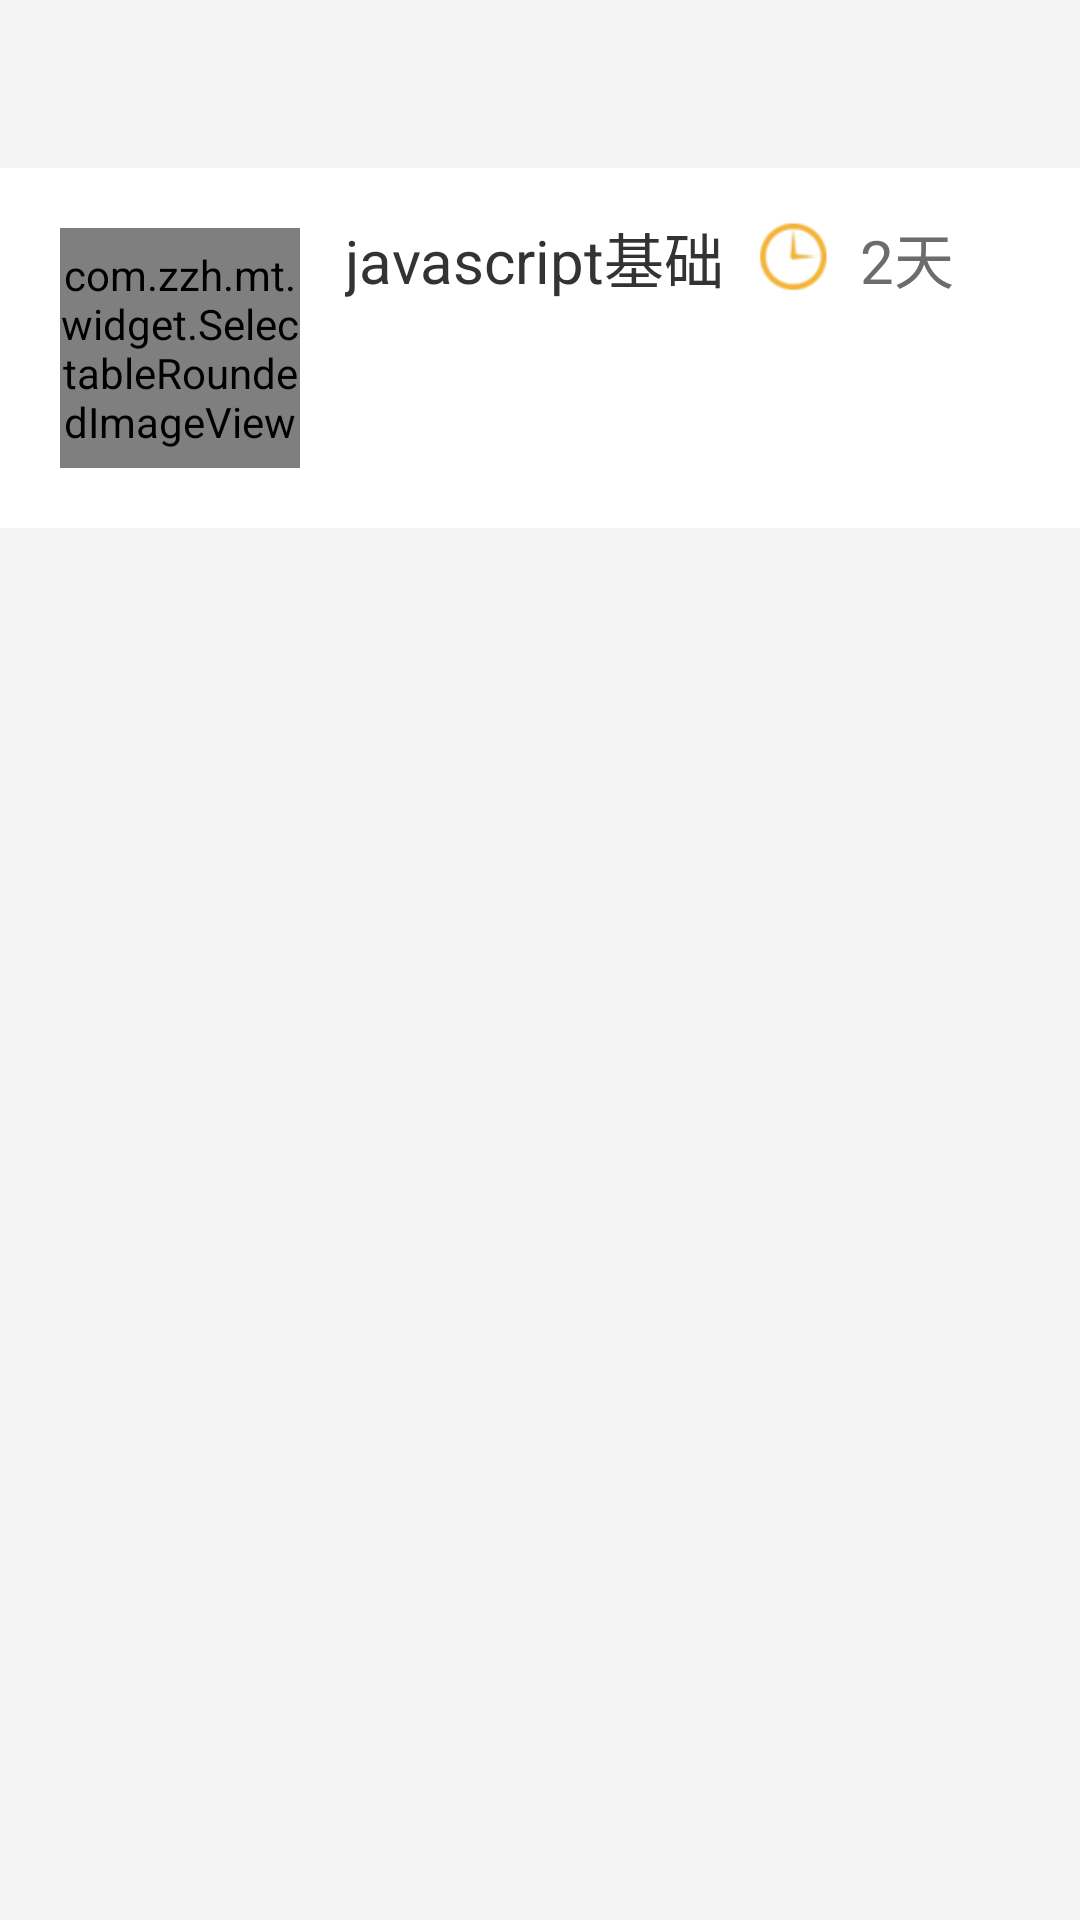

Icon bounding boxes for this 1080 x 1920 phone screenshot, format (x1, y1, x2, y2):
elective recycler item date: (760, 223, 827, 290)
